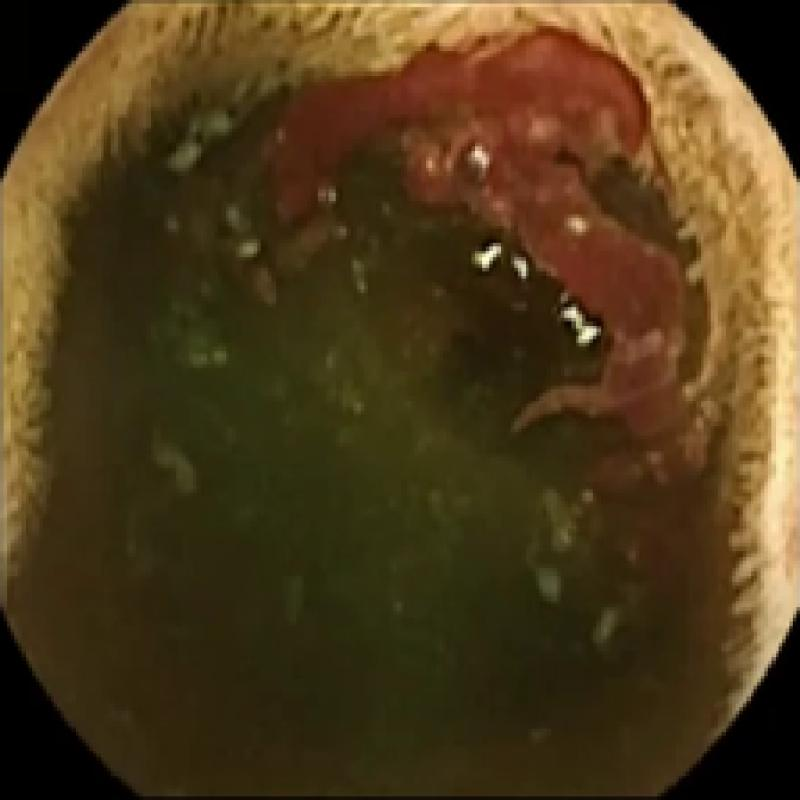bleeding: (257, 14, 697, 550)
